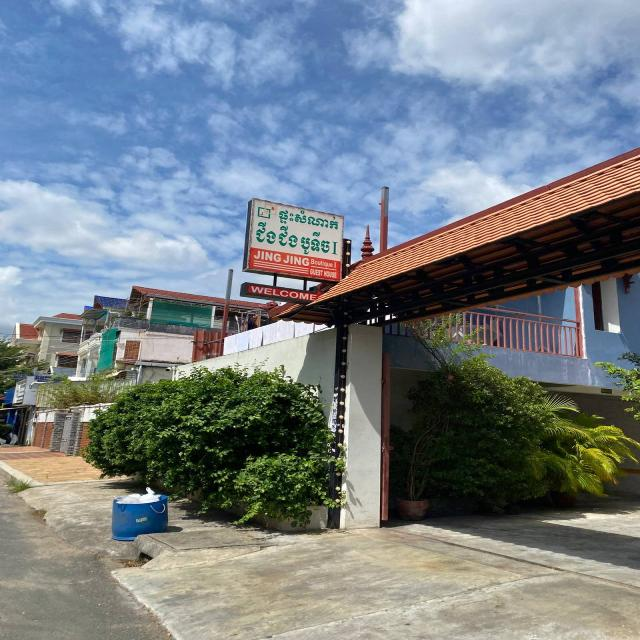13: (251, 220, 343, 262)
Yolov11_80vkh: (278, 205, 344, 234)
